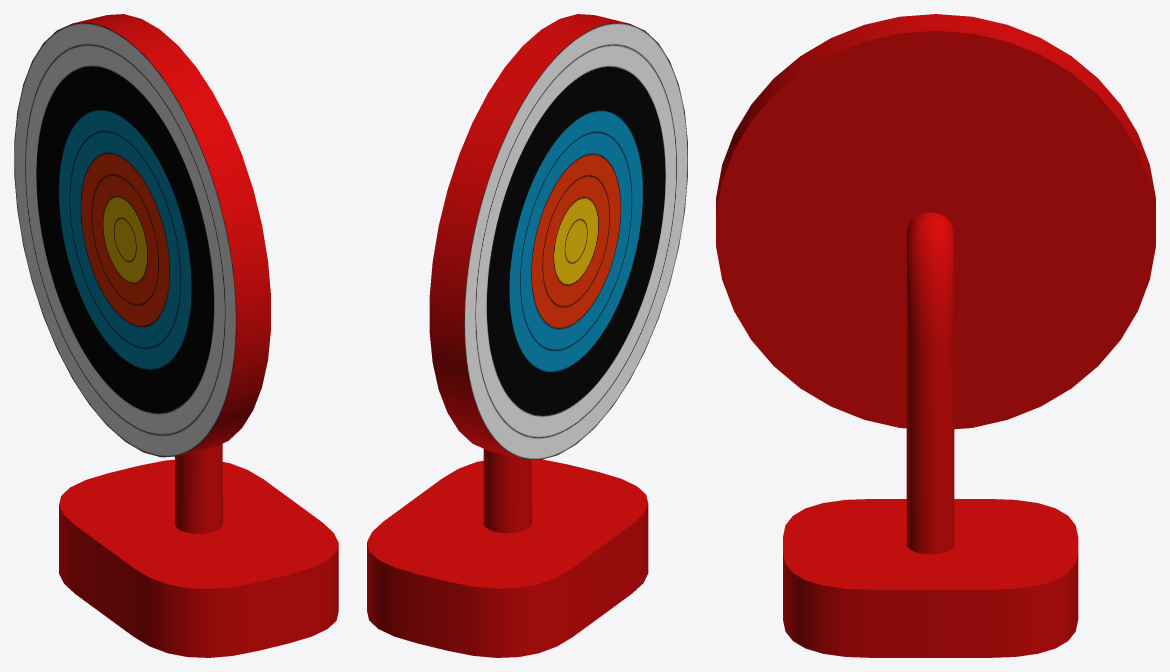
File: diana.fbx
3 renders of one model, left to right at view 1: azimuth 30°, elevation 25°; view 2: azimuth 150°, elevation 25°; view 3: azimuth 270°, elevation 25°, orthographic.
Parts seen in each view (by area): view 1: z; view 2: z; view 3: z.
Boxes of the visible parts, x1,y1,x2,y2 form: z: (14,14,338,657); z: (367,14,687,657); z: (716,14,1155,657).
Bounding box in the file's own units: 45.77 × 132 × 93.48.
Materials: 2 (1 with a texture image).
